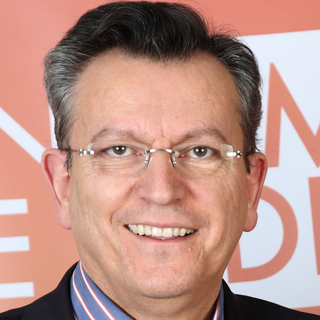eye: (95, 140, 141, 163), (178, 141, 222, 164)
